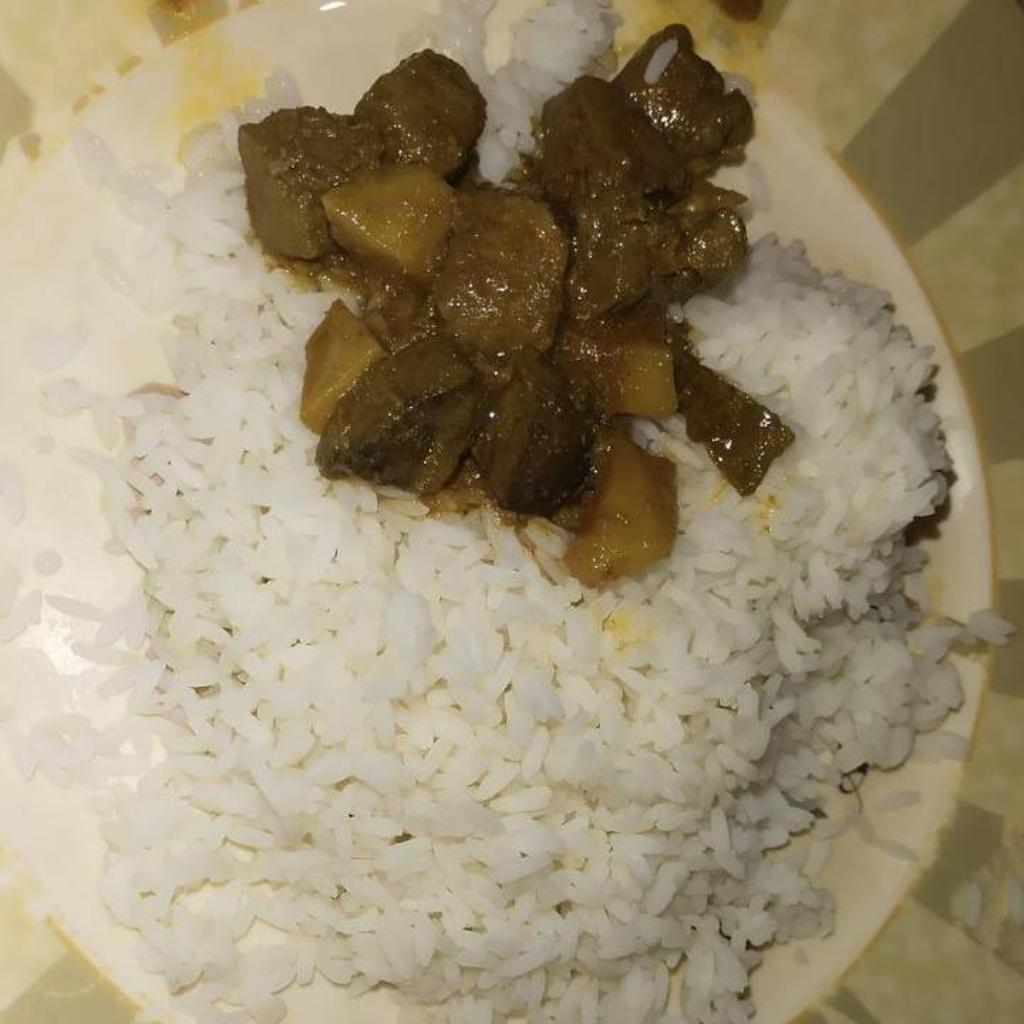beef: (242, 27, 794, 579)
rice: (16, 111, 985, 1023)
